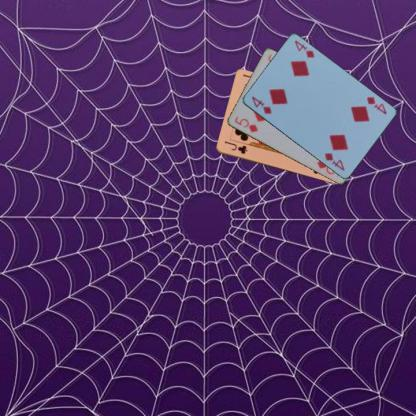4d: (363, 94, 388, 116), (249, 94, 273, 116)
5d: (232, 113, 259, 134)
Jc: (222, 138, 248, 156)
